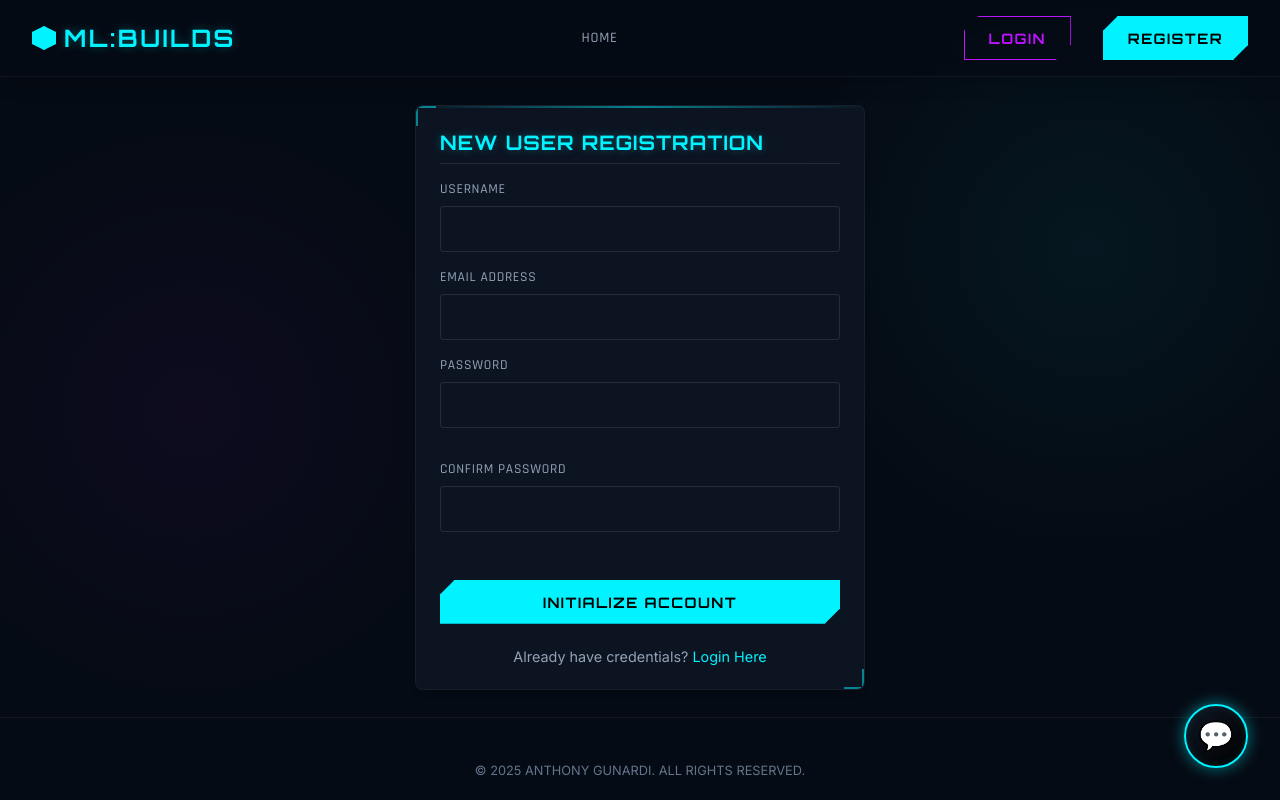
Test: RegisterPage › displays error on register failure
Type "testuser" into the field labelled "Username" at {"x": 640, "y": 228}, box top-left (440, 206), bottom-right (840, 252)
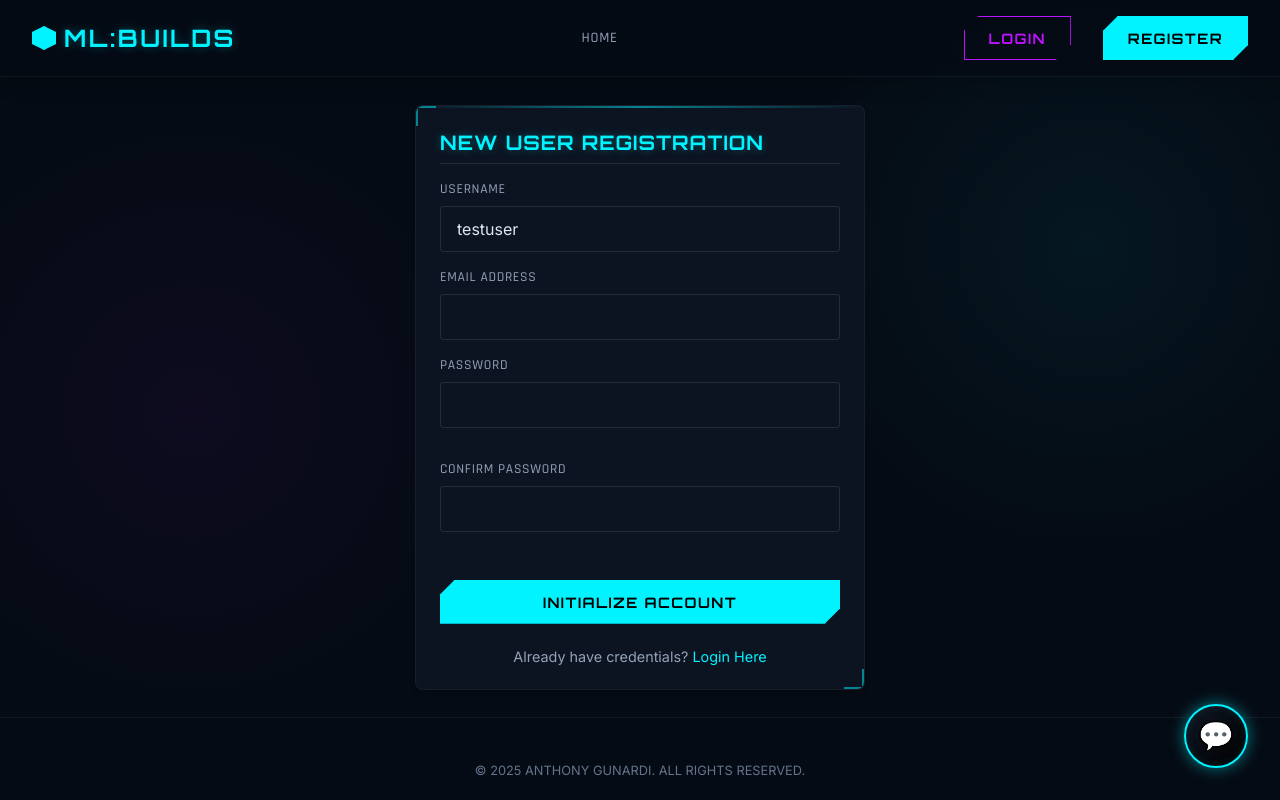
Type "test@test.com" into the field labelled "Email Address" at {"x": 640, "y": 316}, box top-left (440, 294), bottom-right (840, 340)
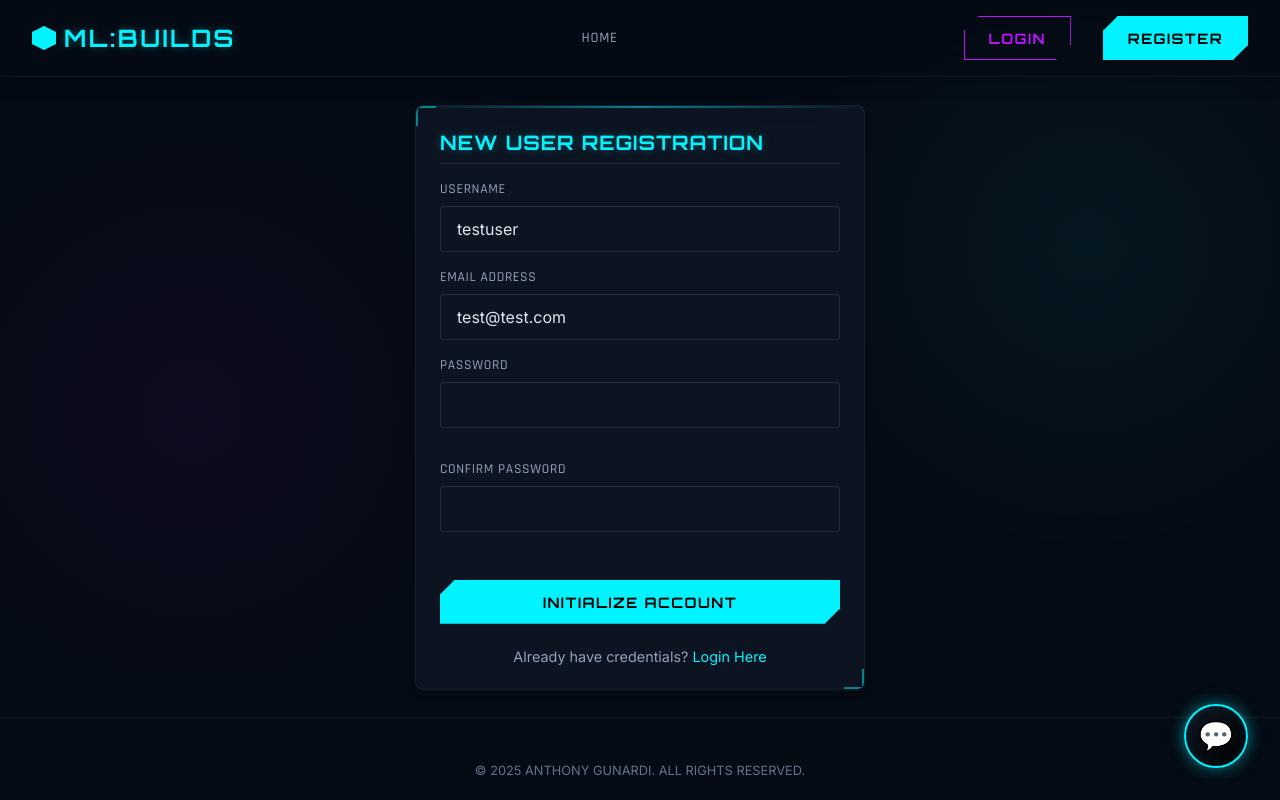
Type "password123" into the password field labelled "Password" at {"x": 640, "y": 404}, box top-left (440, 382), bottom-right (840, 428)
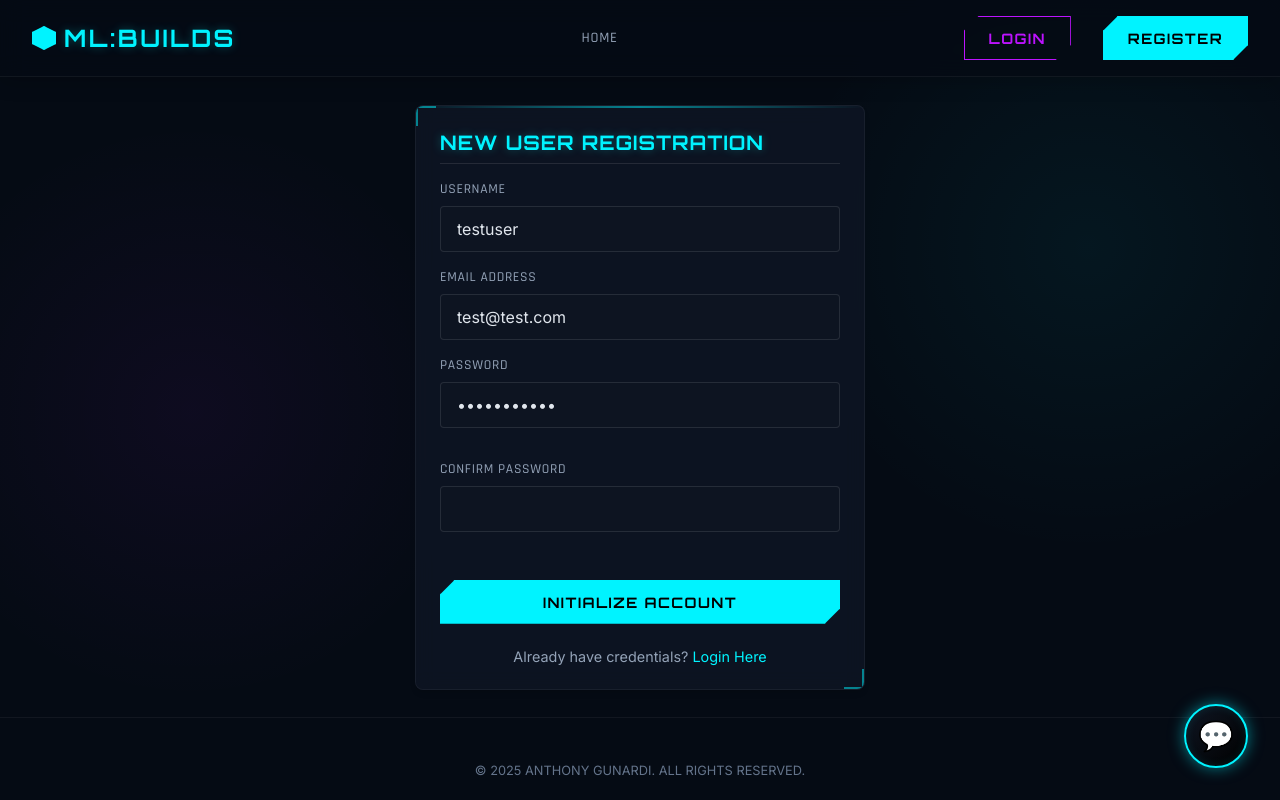
Type "password123" into the password field labelled "Confirm Password" at {"x": 640, "y": 508}, box top-left (440, 486), bottom-right (840, 532)
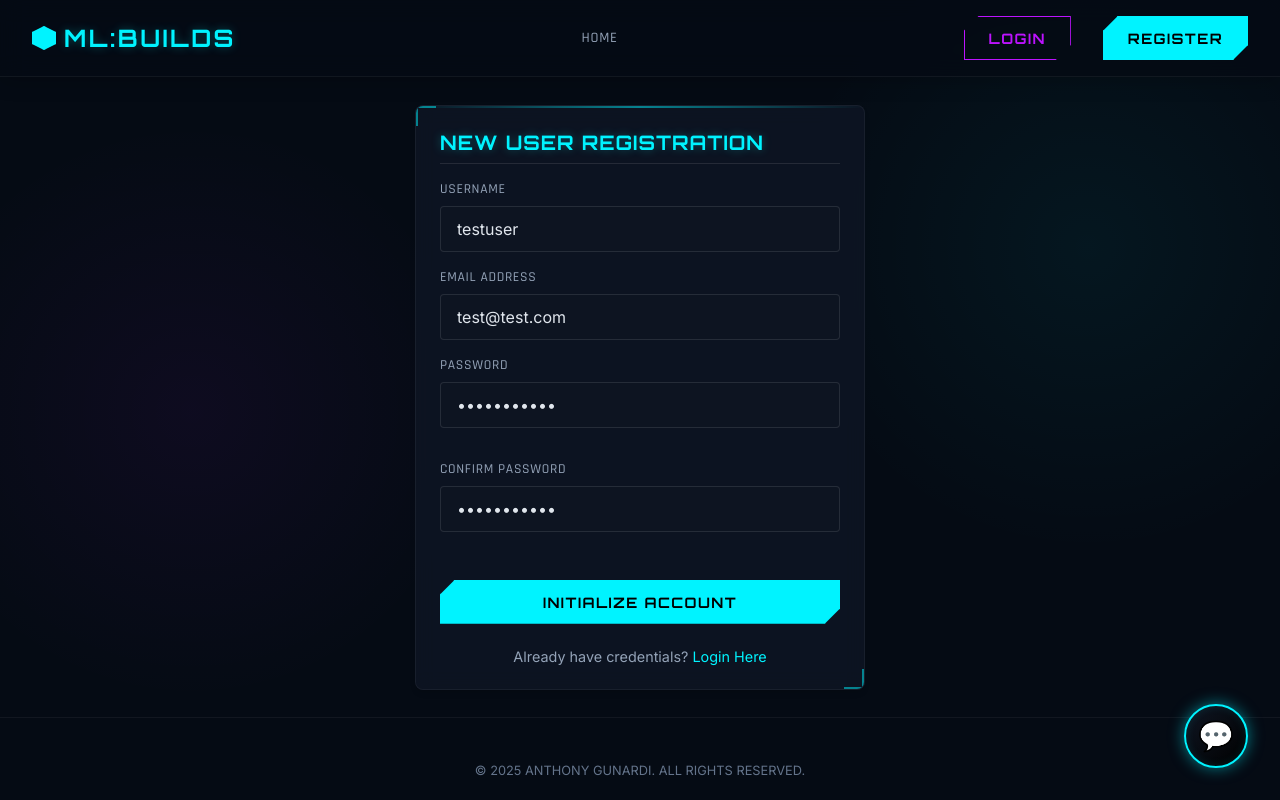
Click the button "Initialize Account" at {"x": 640, "y": 602}, box top-left (440, 580), bottom-right (840, 624)
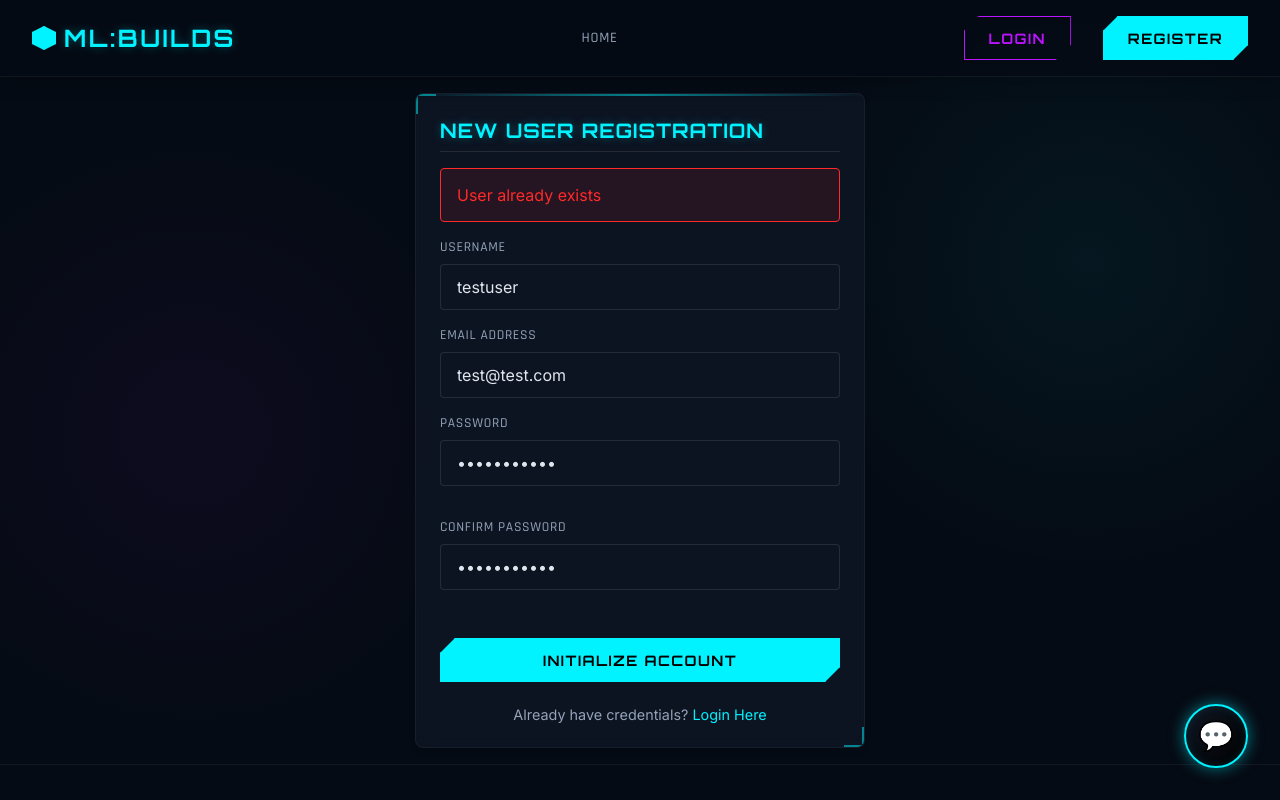
Now the text "User already exists" is shown, box top-left (440, 168), bottom-right (840, 222)
